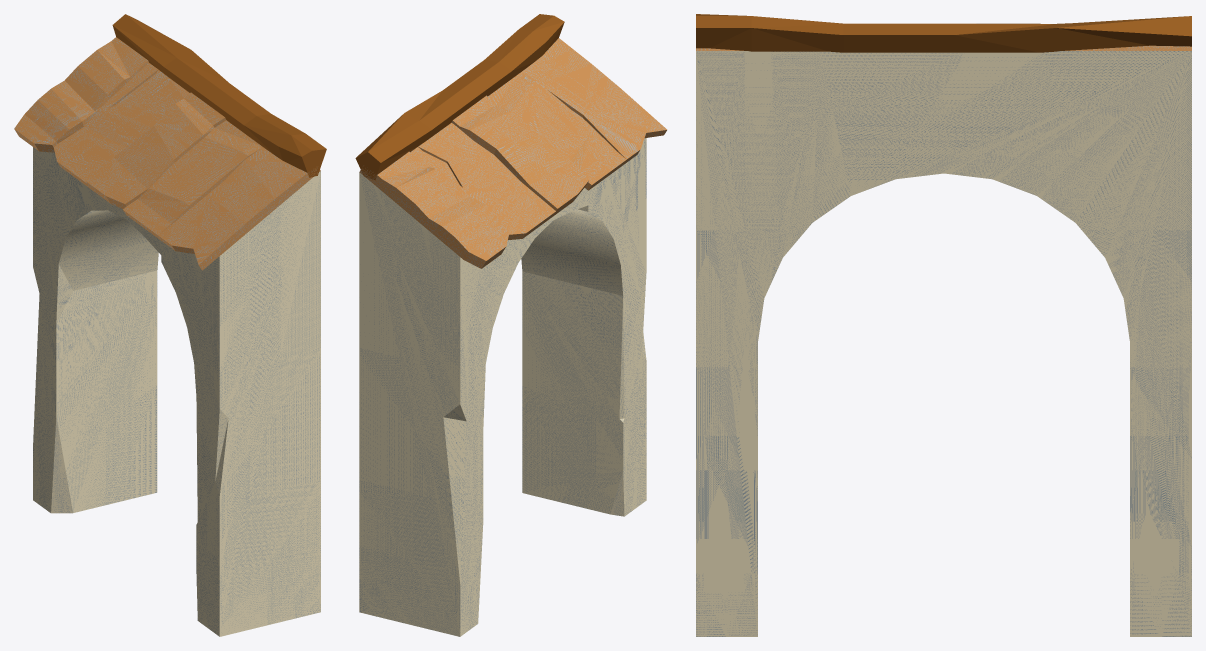
The model's file is Arc2.fbx.
The picture shows the model from 3 angles, left to right: view 1: azimuth 30°, elevation 25°; view 2: azimuth 150°, elevation 25°; view 3: azimuth 270°, elevation 25°; orthographic projection. The views are drawn at different scales.
Parts seen in each view (by area): view 1: Group2, Roof6_1, G_18_1; view 2: Group2, Roof6_1, G_18_1; view 3: Group2, G_18_1.
Part boxes in pixels (left/top/right/bottom): Group2: left=33, top=147, right=320, bottom=636; Roof6_1: left=14, top=37, right=320, bottom=270; G_18_1: left=112, top=14, right=326, bottom=177; Group2: left=359, top=138, right=646, bottom=636; Roof6_1: left=359, top=38, right=667, bottom=268; G_18_1: left=355, top=14, right=564, bottom=180; Group2: left=696, top=51, right=1191, bottom=636; G_18_1: left=696, top=14, right=1191, bottom=52.
Size of the model in its own units: 641 by 2191 by 1600.
